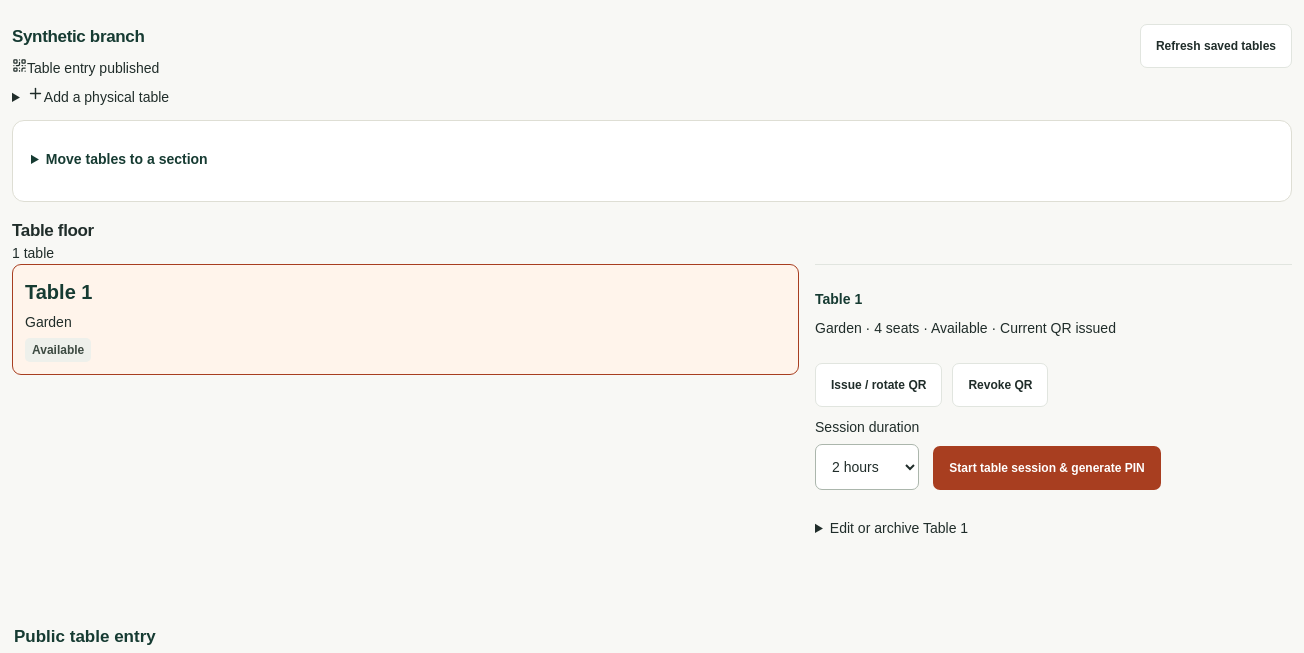
opening table sends current version and CSRF then shows one-time PIN only after success
The width and height of the screenshot is (1304, 653).
Click the button "Start table session & generate PIN": (1047, 468) [933, 446, 1161, 490]
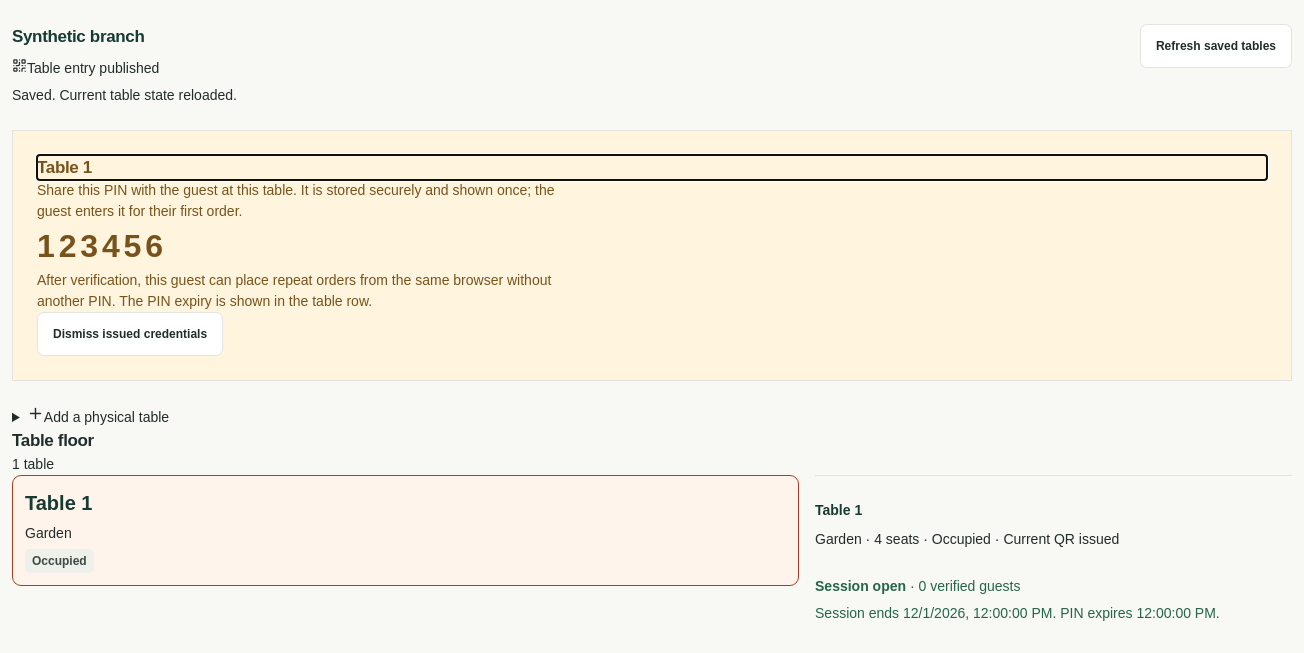
Check: the text "123456" is shown, box [37, 228, 167, 264]
Check: the button "Start table session & generate PIN" is gone
Click the button "Dismiss issued credentials": (130, 334) [37, 312, 223, 356]
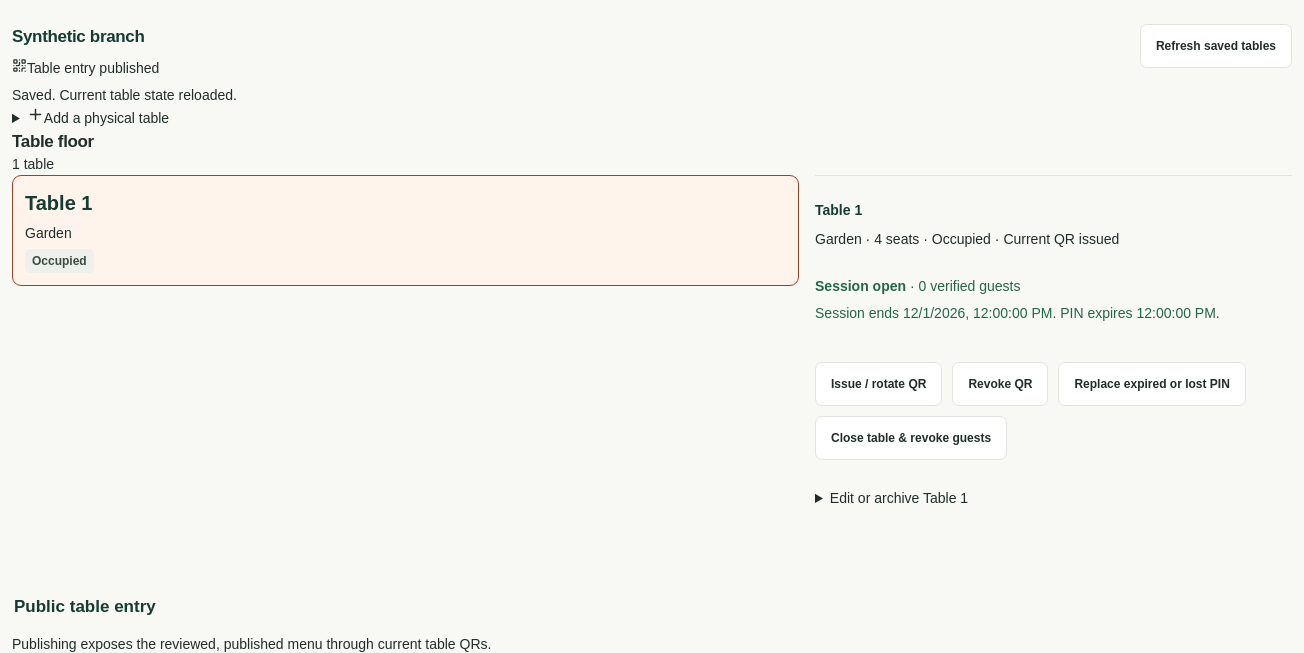
Check: the text "123456" is gone
